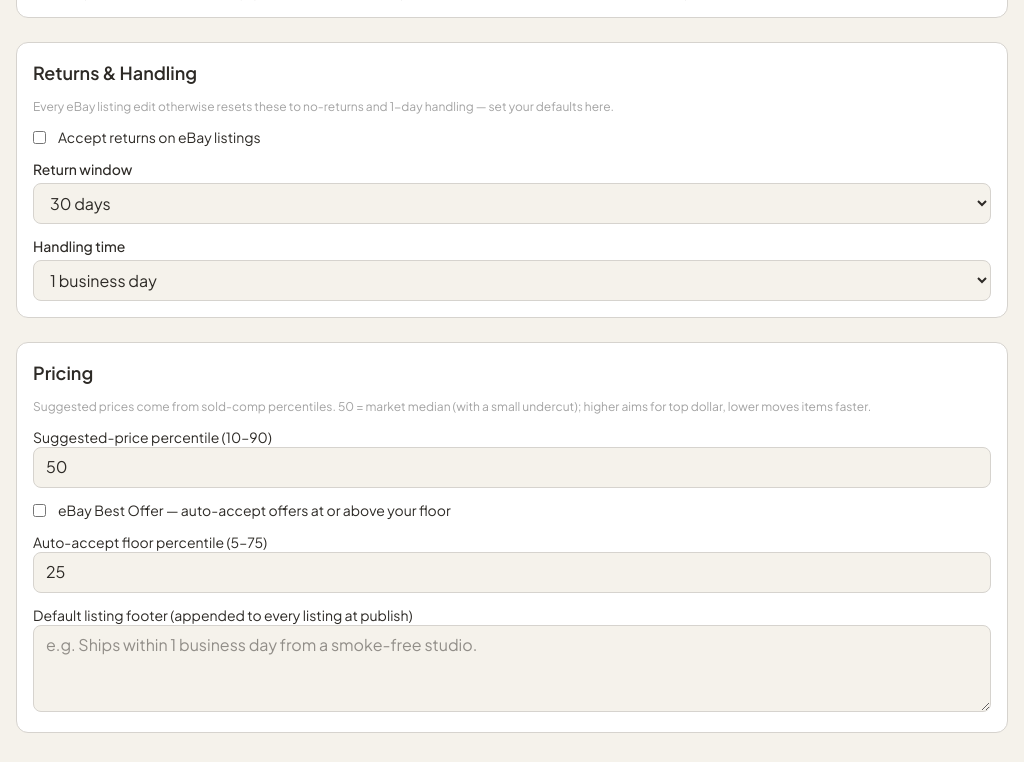
it: Seller profile Pricing section › surfaces the server's actionable error message instead of a generic 'Failed to save'
This screenshot has width=1024, height=762.
(page scrolled)
Replace the text in the number field labelled "Auto-accept floor percentile (5–75)" with "60" at (512, 573), box [33,552,991,593]
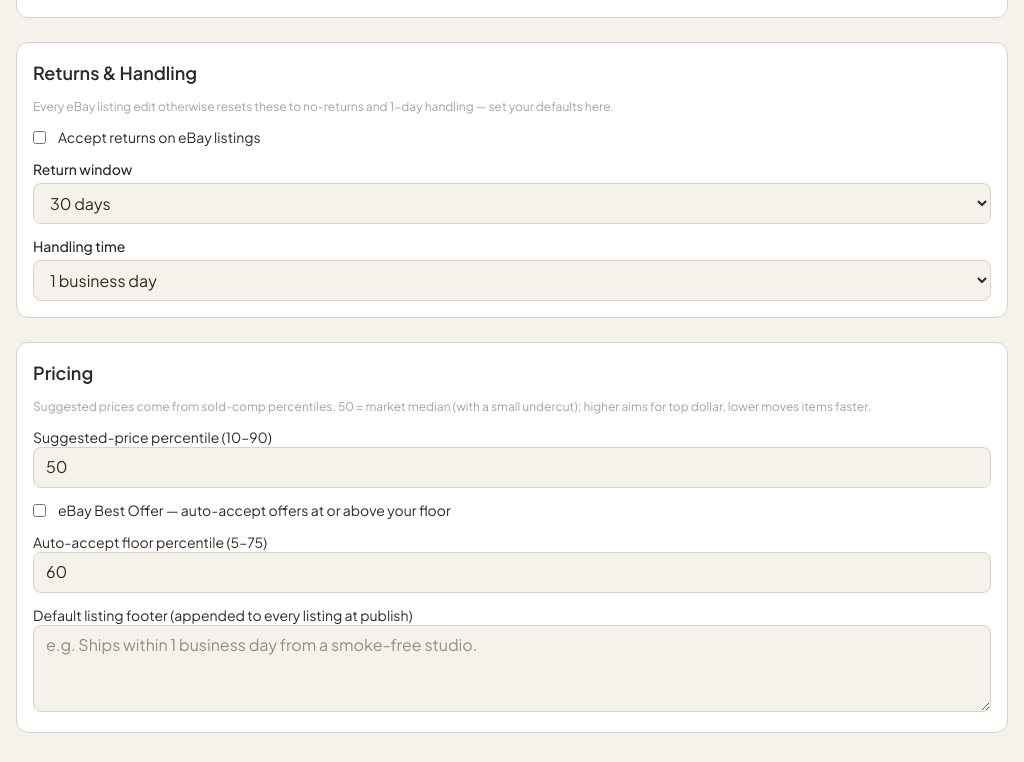
Leave the number field labelled "Auto-accept floor percentile (5–75)", box [33,552,991,593]
(page scrolled)
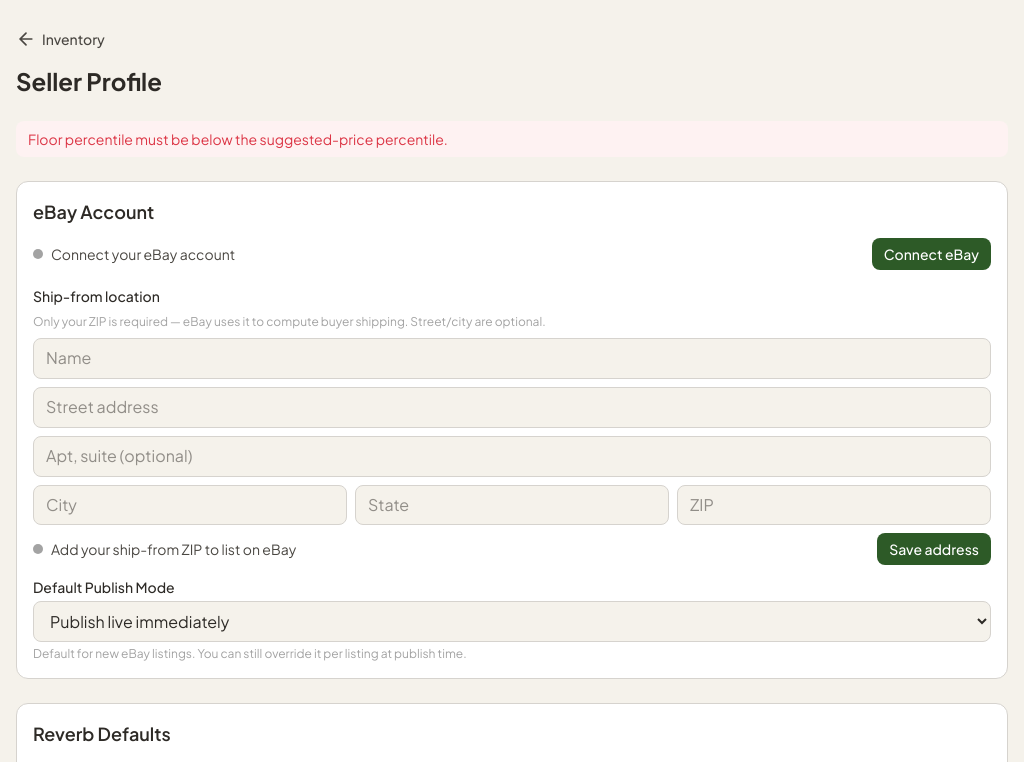
Expected: the text "Floor percentile must be below" is shown, [28,130,448,148]
